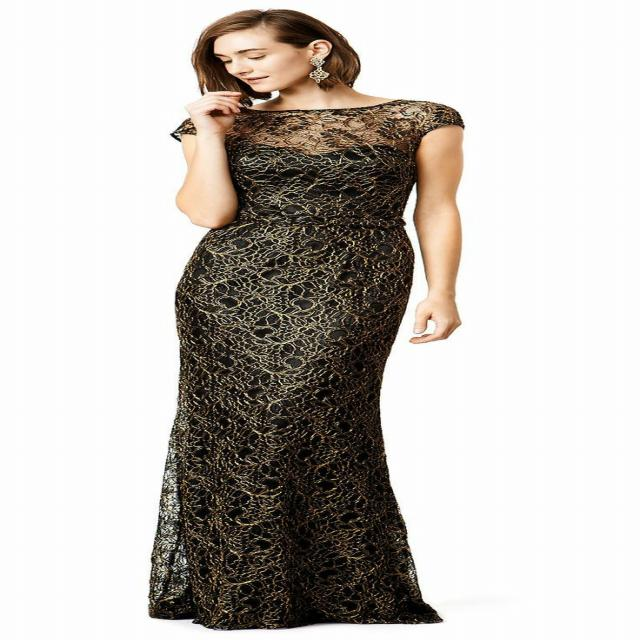female-dress: (163, 106, 439, 628)
